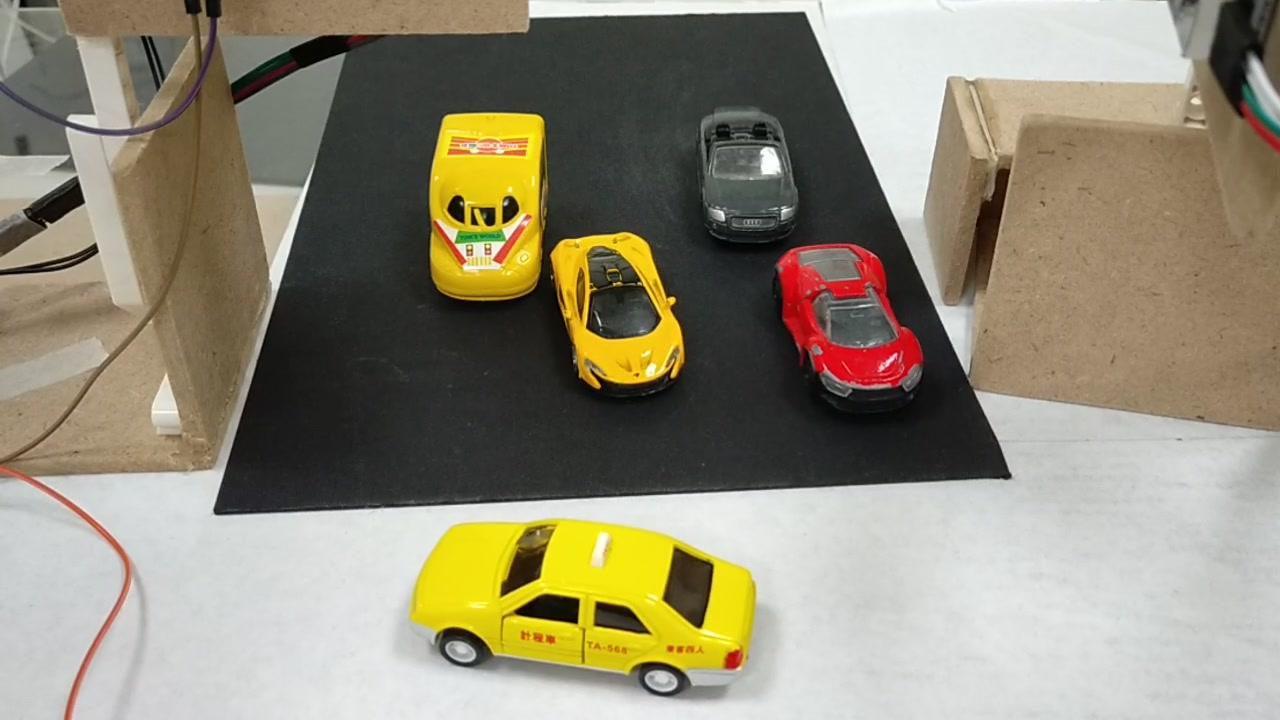car: (396, 525, 763, 703), (766, 247, 937, 414), (549, 234, 685, 393), (693, 110, 796, 248)
